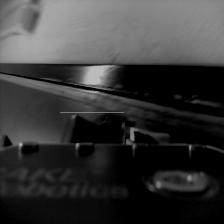Door Handle: (60, 112, 124, 143)
